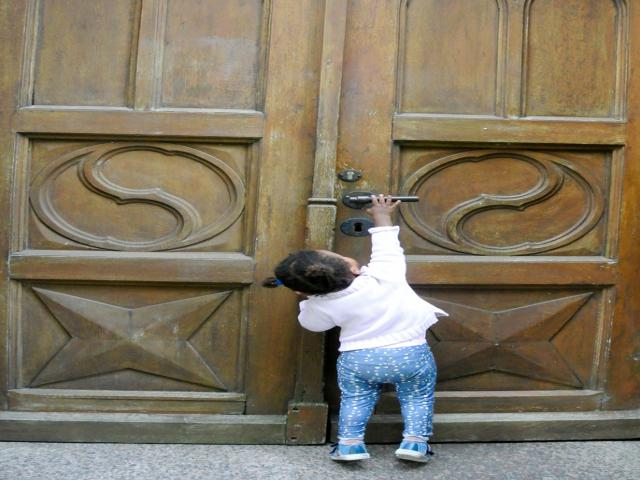Door-handle: (342, 191, 422, 212), (337, 170, 362, 184)
